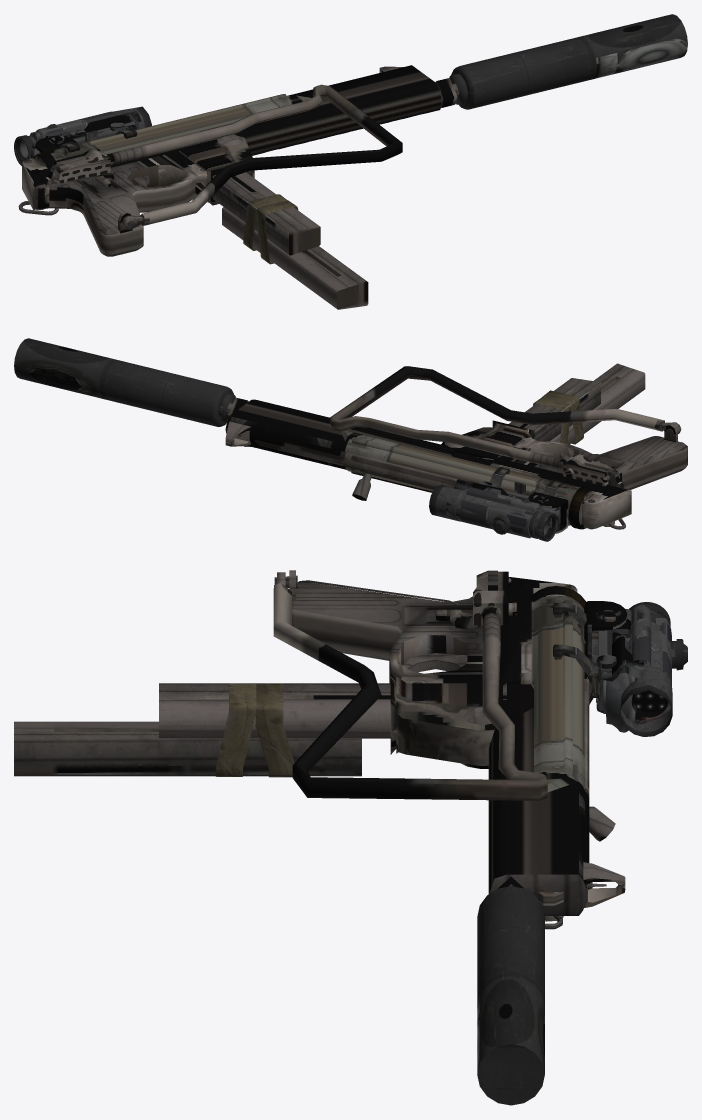
The model's file is t5_weapon_mpl_viewmodel.glb.
3 views of the same model, one above another, from view 1: azimuth 30°, elevation 25°; view 2: azimuth 150°, elevation 25°; view 3: azimuth 270°, elevation 25° (orthographic). The views are drawn at different scales.
Visible parts, largest first — view 1: t5_weapon_mpl_viewmodel; view 2: t5_weapon_mpl_viewmodel; view 3: t5_weapon_mpl_viewmodel.
Boxes of the visible parts, x1,y1,x2,y2 form: t5_weapon_mpl_viewmodel: (14, 14, 687, 309); t5_weapon_mpl_viewmodel: (14, 338, 687, 541); t5_weapon_mpl_viewmodel: (14, 570, 687, 1105).
Bounding box in the file's own units: 0.7873 × 0.0792 × 0.4654.
13 materials, 12 textured.
